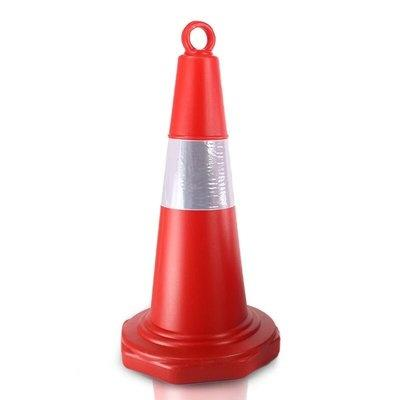cone_barrel: (126, 23, 269, 384)
